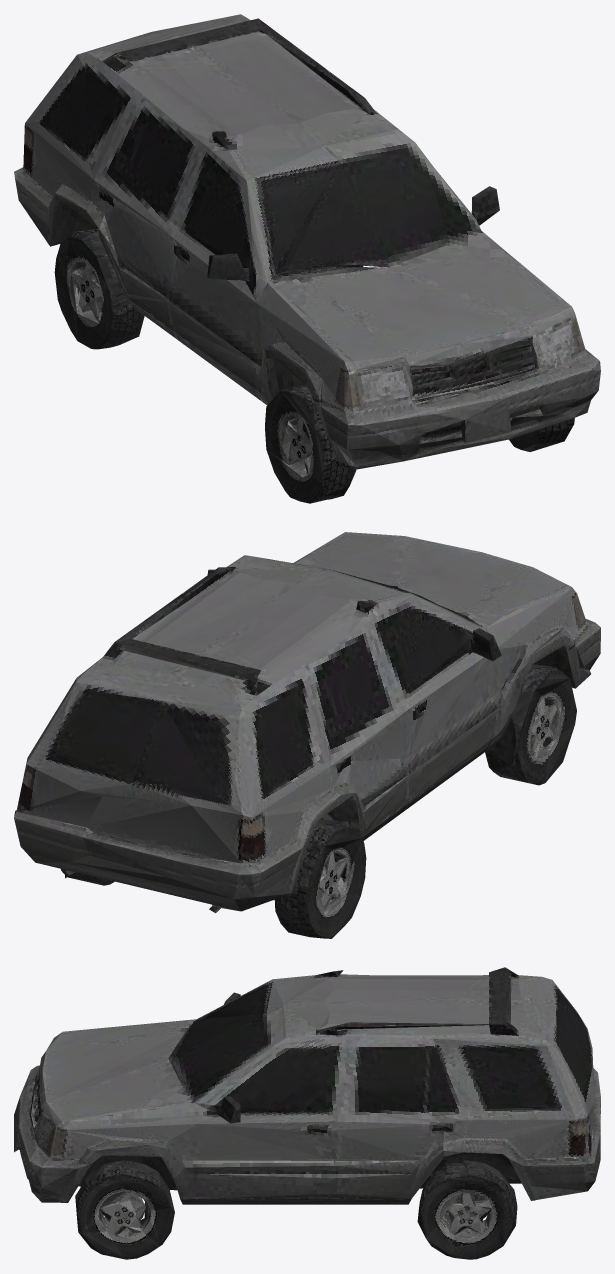
File: suv_slate.glb
3 views of the same model, one above another, from view 1: azimuth 30°, elevation 25°; view 2: azimuth 150°, elevation 25°; view 3: azimuth 270°, elevation 25° (orthographic). The views are drawn at different scales.
Parts seen in each view (by area): view 1: car_suv; view 2: car_suv; view 3: car_suv.
Part boxes in pixels (x1,y1,x2,y2): car_suv: (14, 14, 600, 503); car_suv: (14, 532, 600, 938); car_suv: (14, 967, 600, 1259).
Bounding box in the file's own units: 2.19 × 1.91 × 4.7.
Materials: 1 (1 with a texture image).
